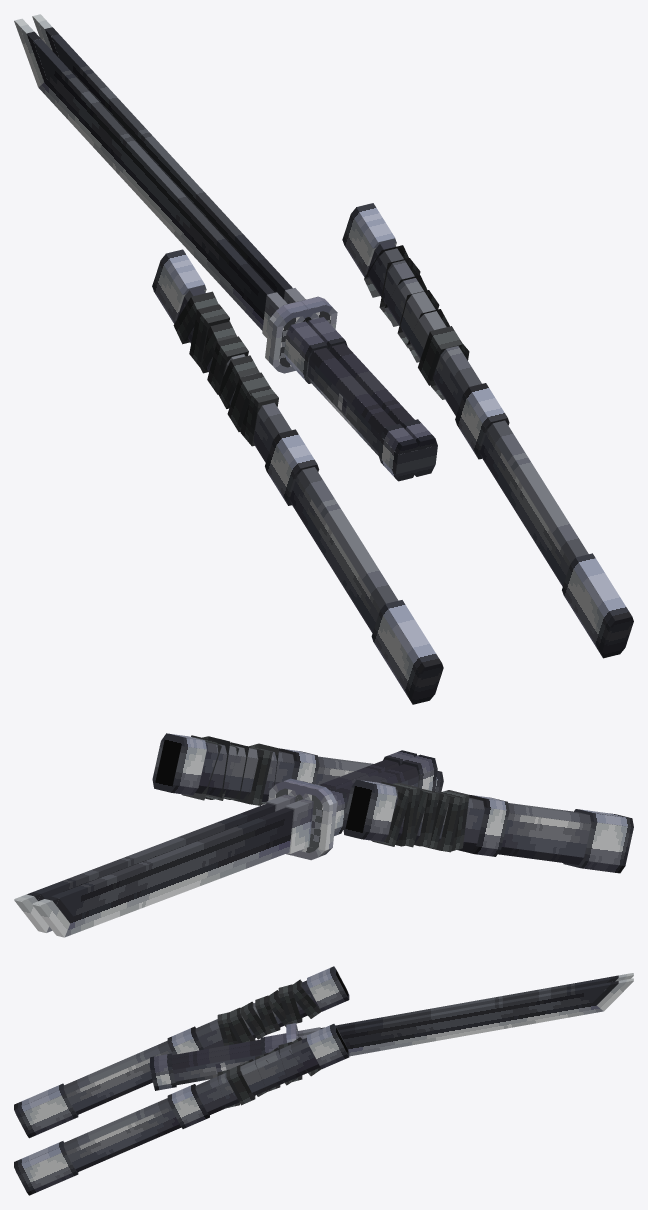
Rendered from sword_of_pioneer.glb.
3 views of the same model, one above another, from view 1: azimuth 30°, elevation 25°; view 2: azimuth 150°, elevation 25°; view 3: azimuth 270°, elevation 25° (orthographic). The views are drawn at different scales.
Parts seen in each view (by area): view 1: main__Torso, off__Torso, off__Tool_L, main__Tool_R; view 2: off__Tool_L, main__Torso, off__Torso, main__Tool_R; view 3: off__Torso, main__Torso, main__Tool_R, off__Tool_L.
Part boxes in pixels (x1,y1,x2,y2): main__Torso: (152, 249, 443, 704); off__Torso: (342, 203, 633, 658); off__Tool_L: (14, 18, 419, 481); main__Tool_R: (32, 14, 437, 476); off__Tool_L: (32, 754, 437, 937); main__Torso: (342, 779, 633, 873); off__Torso: (152, 733, 443, 805); main__Tool_R: (14, 750, 417, 932); off__Torso: (14, 1024, 349, 1195); main__Torso: (14, 966, 349, 1138); main__Tool_R: (150, 978, 633, 1090); off__Tool_L: (150, 973, 633, 1062).
Size of the model in its own units: 0.6473 by 0.8779 by 2.63.
1 material, 1 textured.
